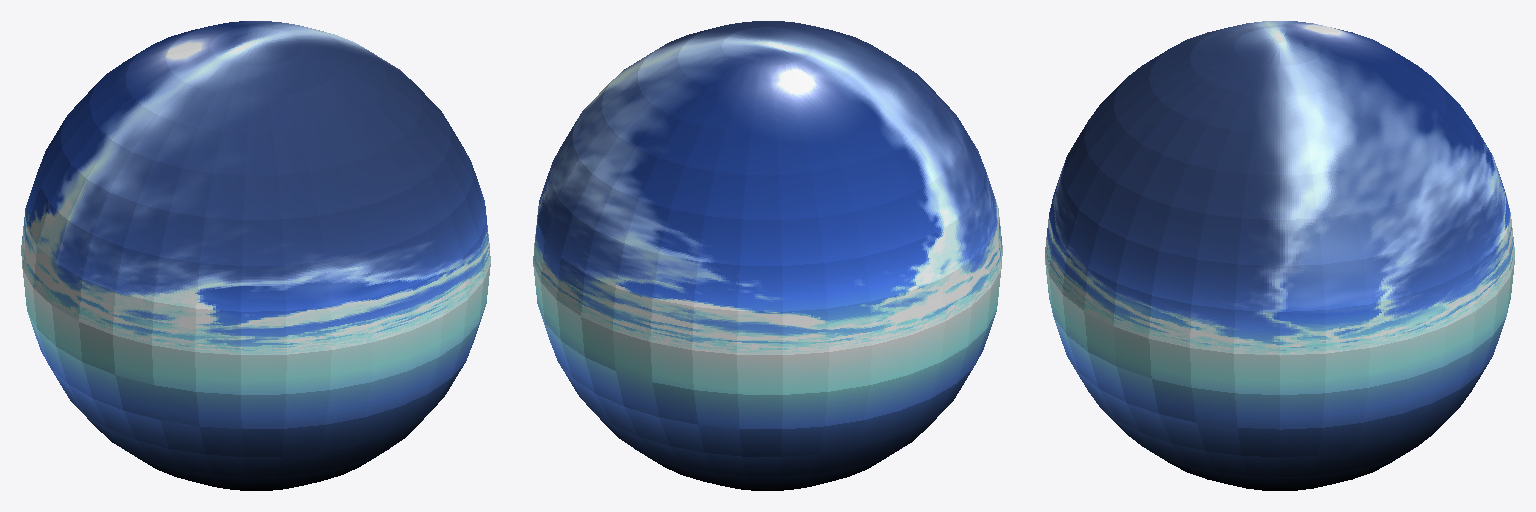
3 renders of one model, left to right at view 1: azimuth 30°, elevation 25°; view 2: azimuth 150°, elevation 25°; view 3: azimuth 270°, elevation 25°, orthographic.
Parts seen in each view (by area): view 1: 球; view 2: 球; view 3: 球.
Part boxes in pixels (left/top/right/bottom): 球: left=21, top=21, right=490, bottom=490; 球: left=533, top=21, right=1002, bottom=490; 球: left=1045, top=21, right=1514, bottom=490.
Bounding box in the file's own units: 2 × 2 × 2.
1 materials, 1 textured.